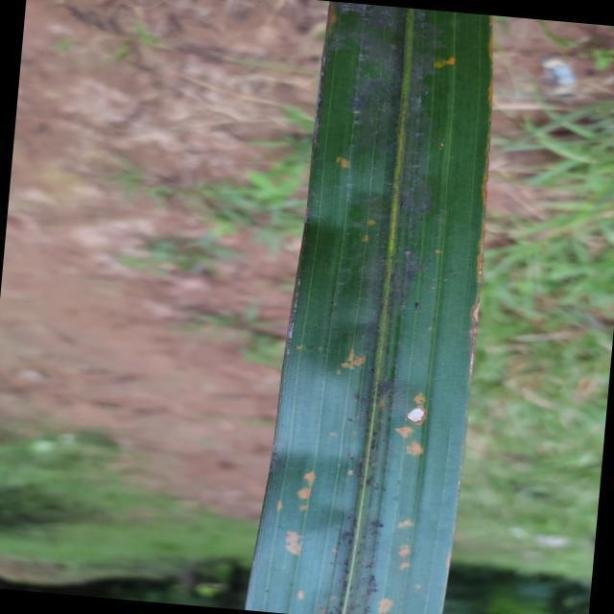Kalium: (246, 0, 494, 614)
